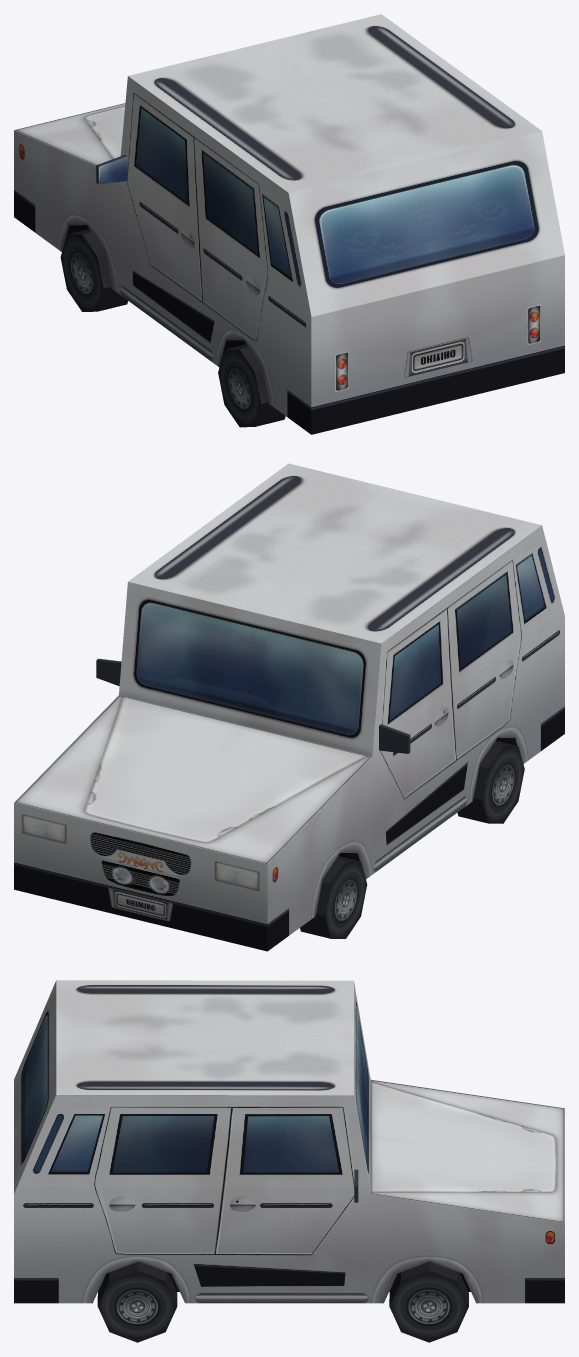
Rendered from Car.FBX.
The picture shows the model from 3 angles, top to bottom: view 1: azimuth 30°, elevation 25°; view 2: azimuth 150°, elevation 25°; view 3: azimuth 270°, elevation 25°; orthographic projection. The views are drawn at different scales.
Parts seen in each view (by area): view 1: Car, Tyre_FL, Tyre_BL; view 2: Car, Tyre_BL, Tyre_FL; view 3: Car, Tyre_BR, Tyre_FR.
Part boxes in pixels (x1=…): Car: x1=14, y1=14, x2=564, y2=434; Tyre_FL: x1=60, y1=229, x2=127, y2=311; Tyre_BL: x1=218, y1=344, x2=285, y2=427; Car: x1=14, y1=463, x2=564, y2=951; Tyre_BL: x1=457, y1=741, x2=524, y2=823; Tyre_FL: x1=300, y1=856, x2=367, y2=938; Car: x1=14, y1=980, x2=564, y2=1303; Tyre_BR: x1=97, y1=1261, x2=177, y2=1342; Tyre_FR: x1=389, y1=1261, x2=468, y2=1342.
Bounding box in the file's own units: 3.71 × 3.02 × 6.14.
1 material, 1 textured.
